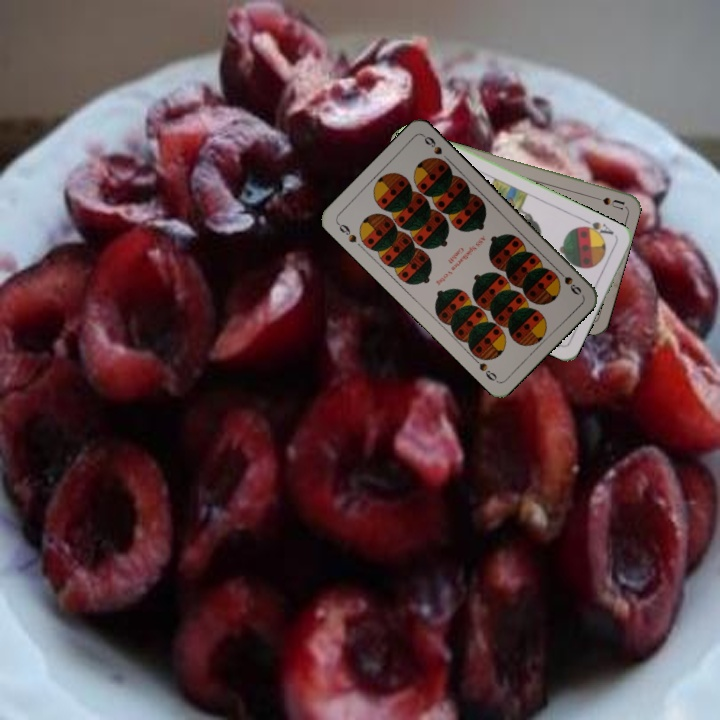S9: (552, 265, 584, 298), (333, 218, 359, 245)
SA: (578, 216, 616, 240)
SU: (586, 191, 626, 213)
